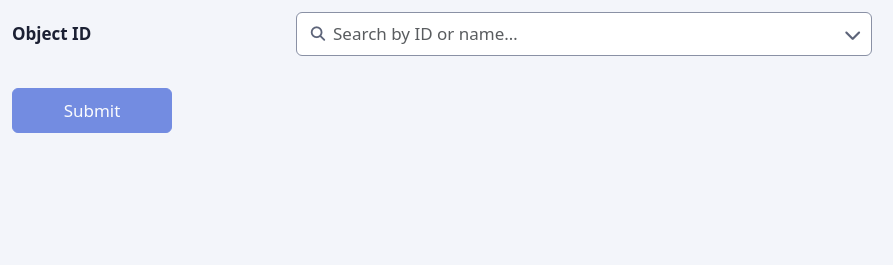
Test: picks an option with the mouse and clears it again
What coordinates should you click on to do the following:
click the dropdown labelled "Object ID"
I would click on:
 (584, 34)
Its box is [296, 12, 872, 56].
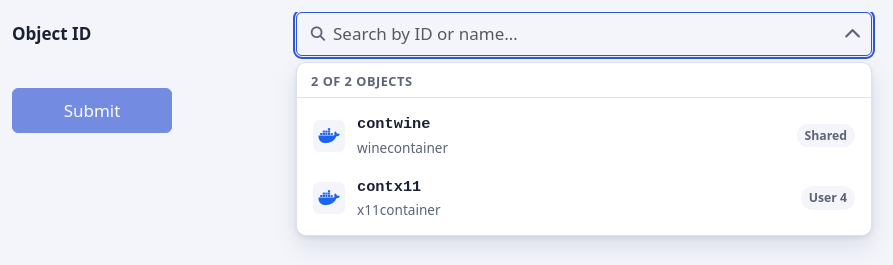
What coordinates should you click on to do the following:
click the text "winecontainer"
I would click on:
 (403, 147)
Its box is [357, 138, 448, 157].
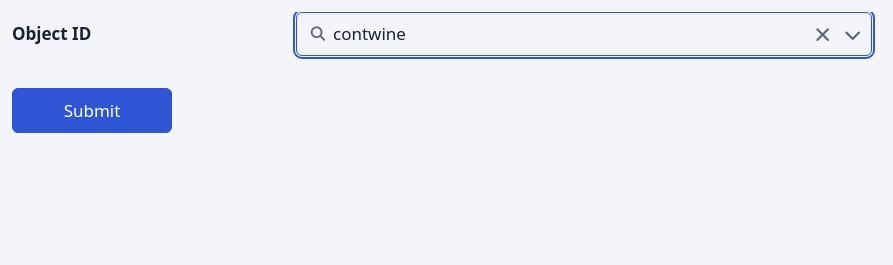
Now the dropdown labelled "Object ID" holds "contwine", box [296, 12, 872, 56]
What coordinates should you click on to do the following:
click the button named "Clear"
I would click on:
 (820, 34)
Its box is [806, 20, 834, 48].
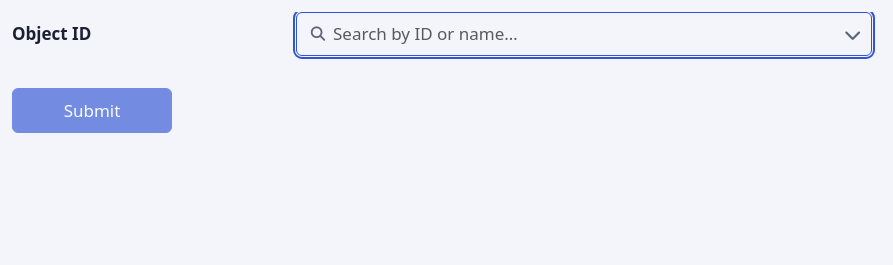
Now the dropdown labelled "Object ID" is empty, box [296, 12, 872, 56]
